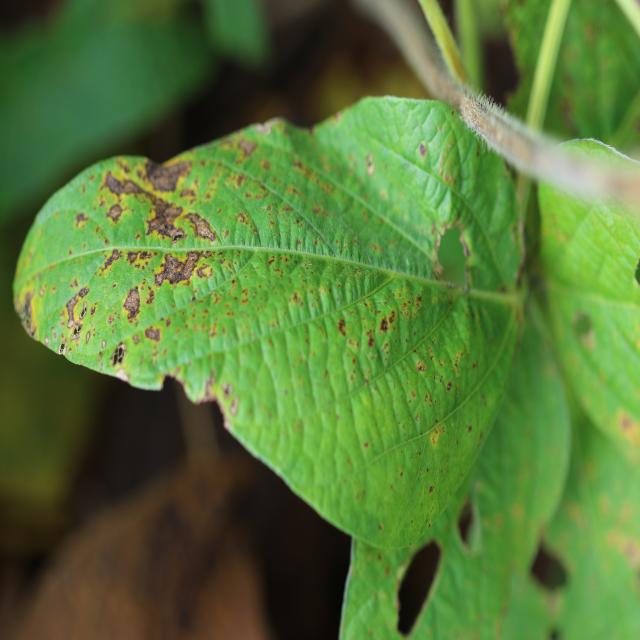Bacterial_Blight: (396, 540, 442, 634), (529, 543, 570, 593), (153, 250, 203, 288), (462, 92, 500, 137), (119, 274, 148, 328), (145, 159, 190, 193), (457, 497, 482, 553), (436, 133, 460, 183), (182, 211, 218, 243), (65, 286, 91, 330), (103, 171, 134, 198), (616, 410, 639, 444), (513, 239, 528, 289), (18, 289, 35, 331), (573, 311, 594, 339), (378, 308, 396, 334), (101, 249, 122, 271), (622, 539, 640, 563), (236, 138, 257, 157), (253, 119, 276, 135), (106, 203, 123, 222), (204, 374, 217, 398), (459, 235, 471, 260), (432, 260, 445, 280), (74, 212, 90, 228), (236, 211, 251, 226), (365, 154, 375, 175), (430, 427, 441, 446), (221, 382, 233, 399), (336, 318, 347, 336), (290, 292, 303, 307), (172, 229, 185, 242), (549, 627, 561, 640), (424, 391, 433, 407), (79, 286, 89, 299), (371, 243, 382, 254), (416, 361, 426, 373), (419, 142, 427, 157), (59, 340, 67, 355), (366, 334, 374, 348), (69, 278, 79, 289), (107, 314, 115, 326), (446, 380, 452, 392), (415, 295, 422, 305), (38, 287, 45, 297), (44, 337, 50, 348), (429, 484, 435, 494), (467, 424, 473, 433), (101, 340, 107, 349), (363, 441, 369, 449), (52, 331, 58, 339), (411, 390, 416, 399), (296, 238, 302, 245), (415, 414, 420, 422), (417, 450, 422, 457), (378, 524, 383, 531), (399, 471, 403, 478)
Soybean: (14, 97, 524, 548)
